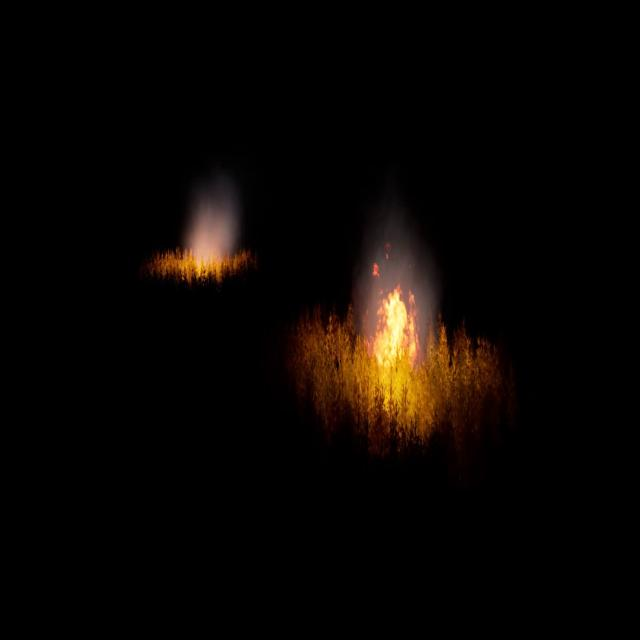fire: (373, 269, 418, 366)
smoke: (349, 214, 443, 362), (188, 189, 244, 268)
